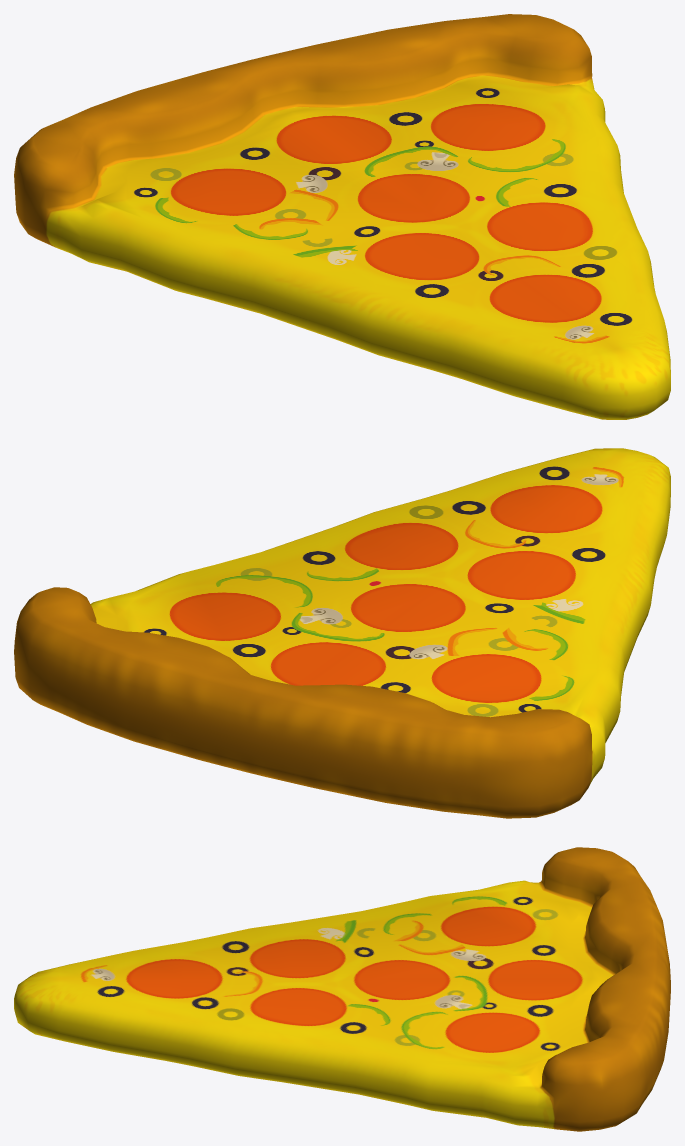
File: PoolFloat09_1.FBX
The picture shows the model from 3 angles, top to bottom: view 1: azimuth 30°, elevation 25°; view 2: azimuth 150°, elevation 25°; view 3: azimuth 270°, elevation 25°; orthographic projection. The views are drawn at different scales.
Visible parts, largest first — view 1: PoolFloat09_1; view 2: PoolFloat09_1; view 3: PoolFloat09_1.
Boxes of the visible parts, left/top/right/bottom form: PoolFloat09_1: left=14, top=14, right=670, bottom=419; PoolFloat09_1: left=14, top=448, right=670, bottom=818; PoolFloat09_1: left=14, top=847, right=670, bottom=1131.
Size of what is drawn, in the model's own units: 1.7 by 0.2565 by 2.07.
